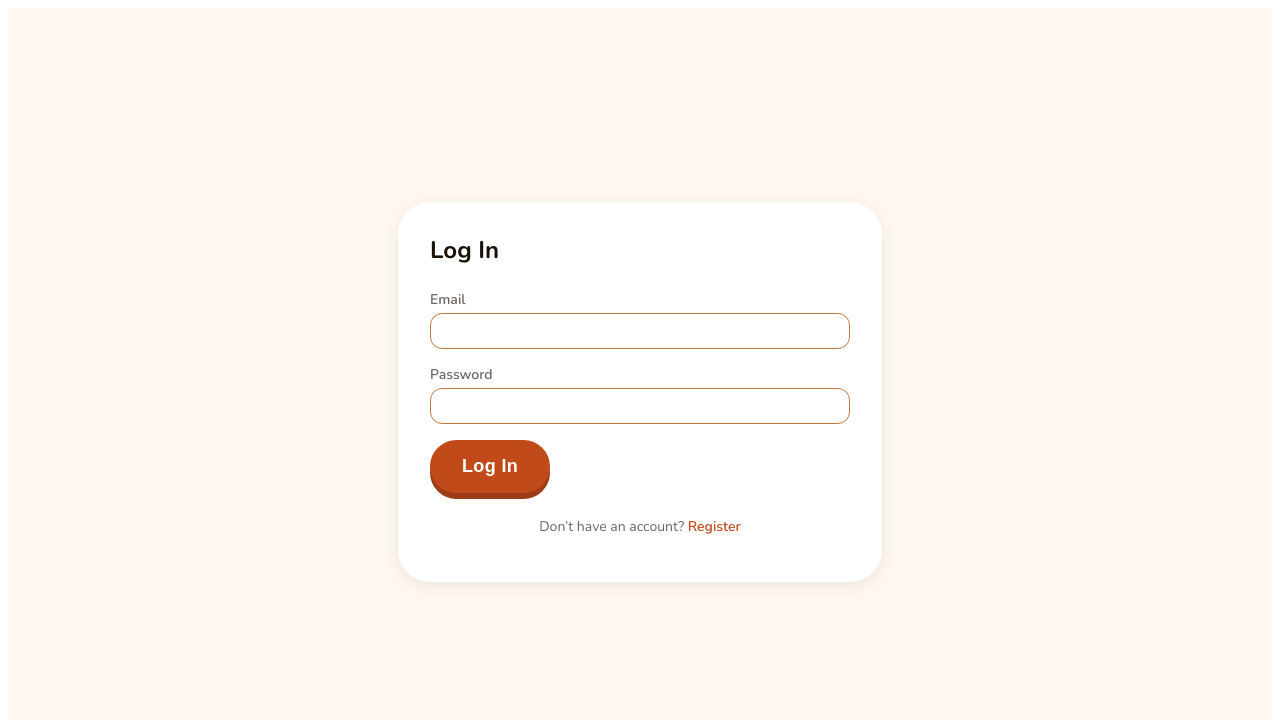
Scenario: LoginPage › shows error message on failed login
The width and height of the screenshot is (1280, 720).
In the field labelled "Email": (640, 331) [430, 313, 850, 349], type "a@b.com"
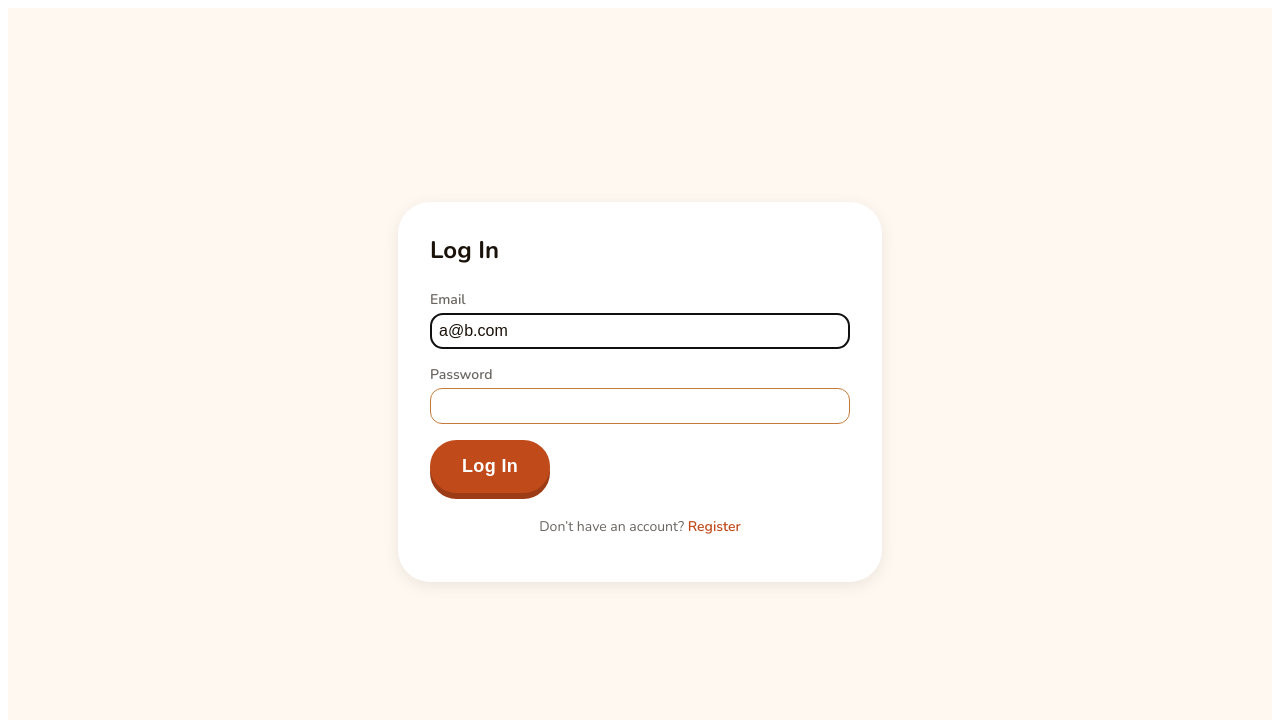
In the password field labelled "Password": (640, 406) [430, 388, 850, 424], type "wrong"
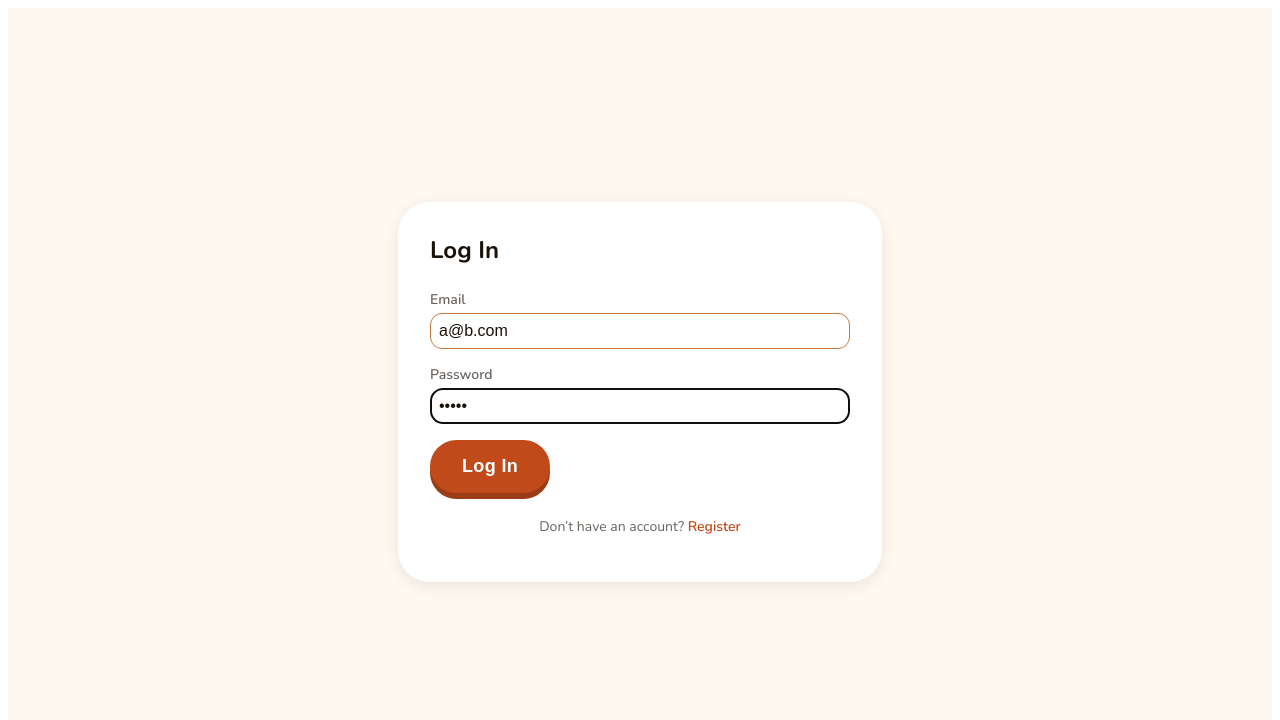
Click the button "Log In": (490, 466) [430, 440, 550, 493]
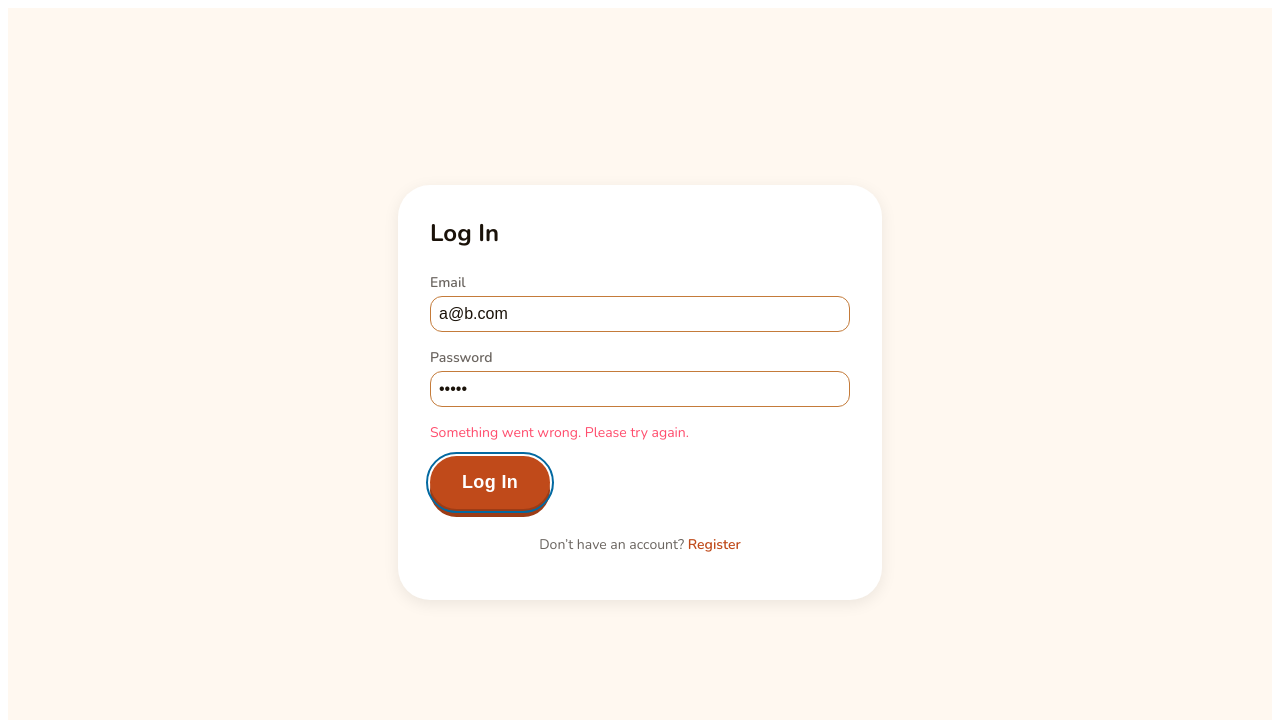
Check: the message "Something went wrong. Please try again." is shown, box [430, 422, 689, 442]
